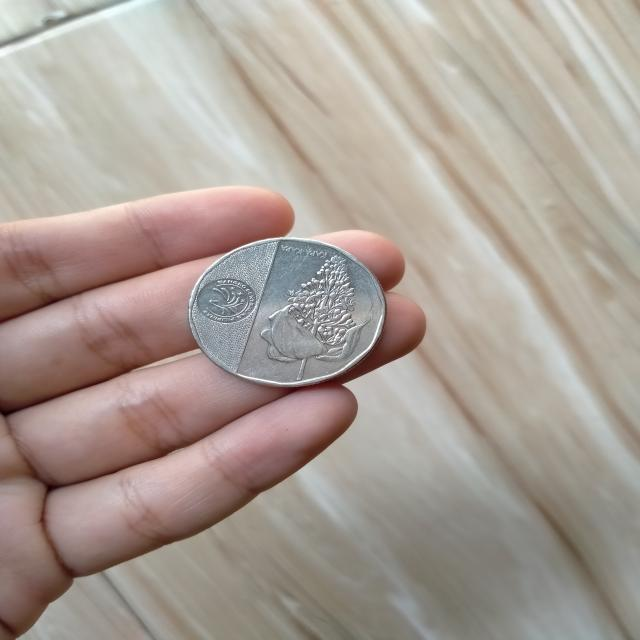10_New_Back: (258, 240, 388, 391)
